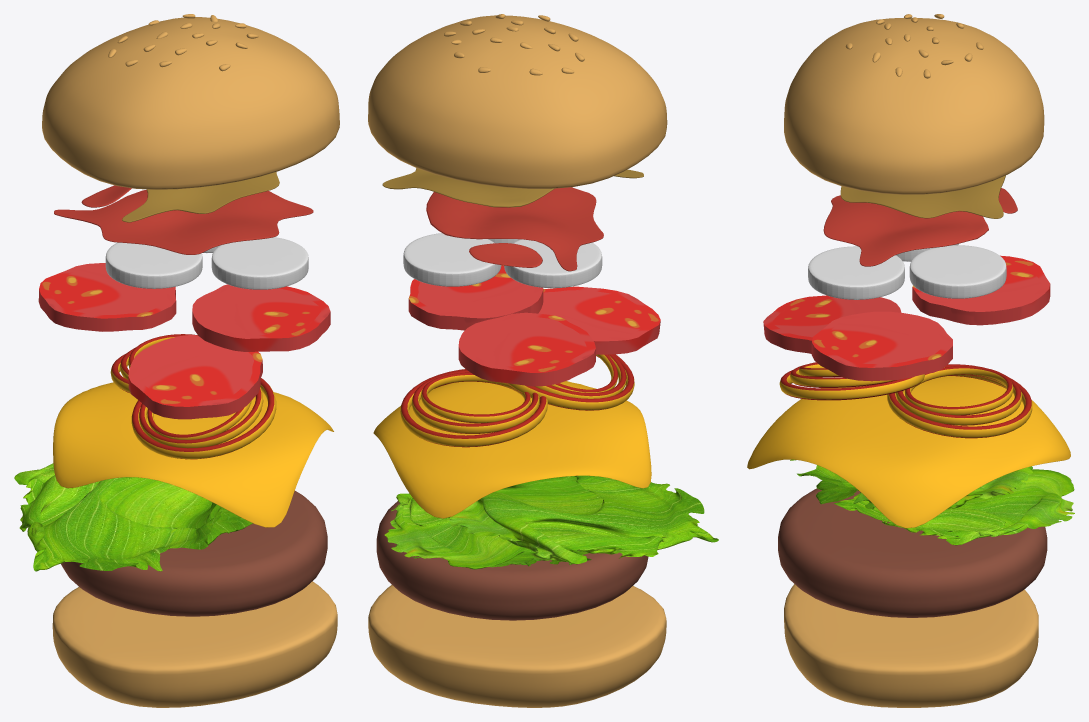
Rendered from updated_krabbry.fbx.
The picture shows the model from 3 angles, left to right: view 1: azimuth 30°, elevation 25°; view 2: azimuth 150°, elevation 25°; view 3: azimuth 270°, elevation 25°; orthographic projection.
Parts seen in each view (by area): view 1: top_bun, bottom_bun, cheese, cooked_patty, lettuce, Tomatoe.003, ketchup, Tomatoe.001, Tomatoe, onion_rings, cuc_slice3, cuc_slice1 (+1 smaller); view 2: top_bun, bottom_bun, lettuce, cheese, cooked_patty, ketchup, onion_rings, Tomatoe, Tomatoe.003, Tomatoe.001, cuc_slice2, mustard (+1 smaller); view 3: top_bun, cheese, bottom_bun, cooked_patty, lettuce, onion_rings, Tomatoe.001, ketchup, Tomatoe, cuc_slice2, cuc_slice3, Tomatoe.003 (+1 smaller).
Part boxes in pixels (x1,y1,x2,y2): top_bun: [42, 14, 339, 189]; bottom_bun: [52, 581, 337, 707]; cheese: [53, 382, 333, 527]; cooked_patty: [61, 490, 327, 616]; lettuce: [14, 463, 252, 571]; Tomatoe.003: [128, 335, 262, 419]; ketchup: [54, 185, 313, 254]; Tomatoe.001: [192, 284, 330, 351]; Tomatoe: [38, 263, 176, 331]; onion_rings: [110, 334, 276, 459]; cuc_slice3: [211, 237, 308, 289]; cuc_slice1: [105, 242, 202, 288]; top_bun: [368, 14, 667, 188]; bottom_bun: [368, 585, 666, 707]; lettuce: [384, 475, 718, 569]; cheese: [373, 381, 651, 518]; cooked_patty: [376, 493, 648, 620]; ketchup: [426, 187, 603, 271]; onion_rings: [400, 354, 634, 447]; Tomatoe: [458, 312, 595, 386]; Tomatoe.003: [538, 286, 660, 354]; Tomatoe.001: [408, 265, 543, 330]; cuc_slice2: [403, 233, 501, 286]; mustard: [382, 168, 643, 207]; top_bun: [784, 14, 1044, 194]; cheese: [747, 376, 1070, 528]; bottom_bun: [784, 584, 1038, 707]; cooked_patty: [778, 488, 1047, 617]; lettuce: [790, 459, 1074, 545]; onion_rings: [779, 362, 1032, 438]; Tomatoe.001: [811, 311, 952, 381]; ketchup: [823, 188, 1017, 266]; Tomatoe: [912, 255, 1050, 325]; cuc_slice2: [909, 245, 1006, 298]; cuc_slice3: [808, 246, 904, 299]; Tomatoe.003: [763, 295, 901, 353].
Bounding box in the file's own units: 19.99 × 37.85 × 18.02.
